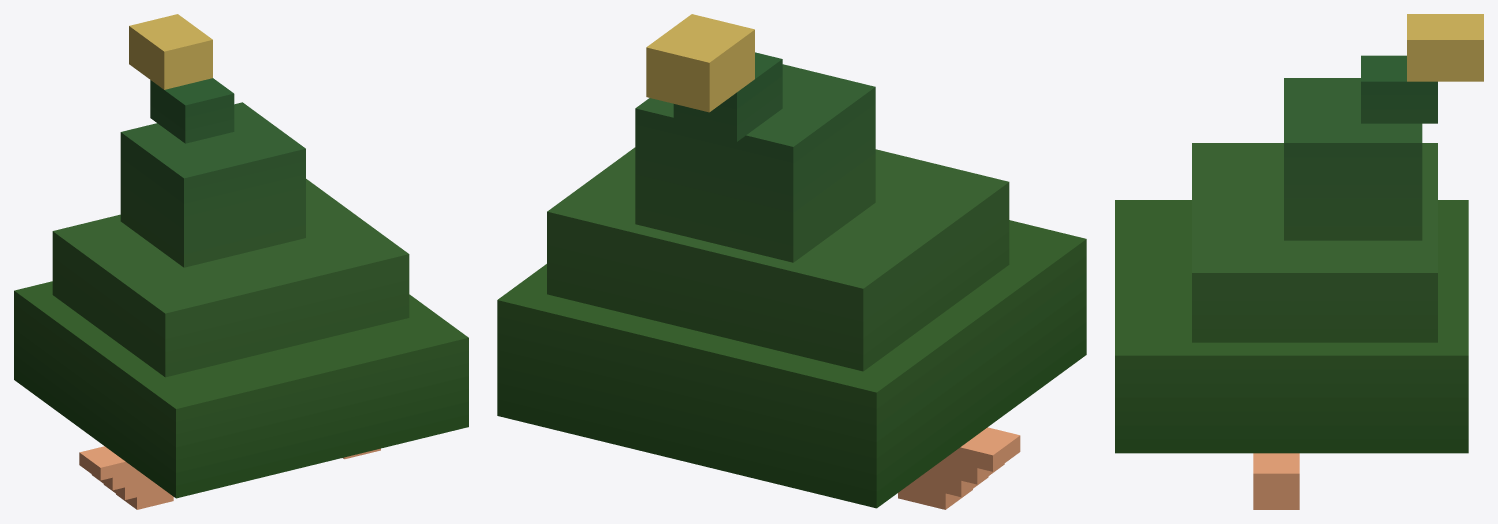
The model's file is Accessories047.fbx.
3 renders of one model, left to right at view 1: azimuth 30°, elevation 25°; view 2: azimuth 150°, elevation 25°; view 3: azimuth 270°, elevation 25°, orthographic. The views are drawn at different scales.
Parts seen in each view (by area): view 1: Accessories047; view 2: Accessories047; view 3: Accessories047.
Part boxes in pixels (x1,y1,x2,y2): Accessories047: (14, 14, 468, 509); Accessories047: (497, 14, 1086, 509); Accessories047: (1115, 14, 1483, 509).
Bounding box in the file's own units: 26.65 × 30.75 × 24.6.
